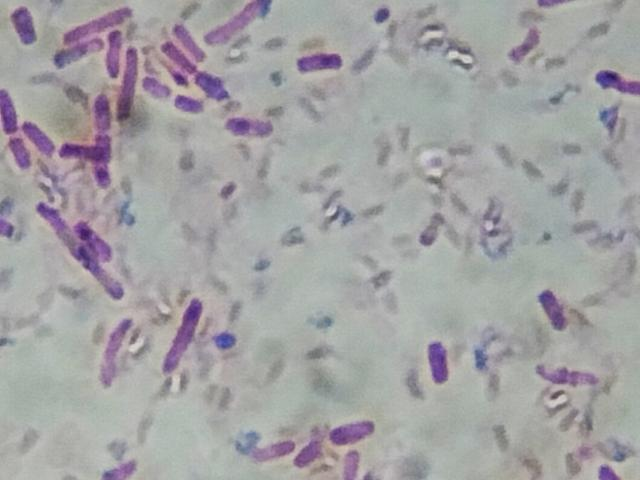E. coli: (165, 296, 206, 376), (210, 0, 274, 49), (531, 357, 607, 392), (79, 249, 127, 299), (61, 6, 140, 35), (38, 202, 80, 249), (12, 5, 49, 58), (595, 62, 640, 104), (429, 333, 459, 395), (76, 215, 120, 256), (99, 315, 123, 390), (225, 113, 282, 144), (295, 49, 351, 78), (52, 39, 110, 66), (328, 417, 376, 448), (539, 286, 572, 330), (28, 119, 63, 159), (202, 70, 238, 107), (120, 49, 138, 123), (172, 14, 208, 50), (96, 132, 119, 187), (289, 439, 327, 470), (256, 437, 297, 465), (93, 456, 137, 479), (165, 45, 198, 72), (2, 212, 23, 249), (0, 84, 18, 127), (93, 89, 112, 128), (339, 450, 363, 480), (109, 33, 124, 79), (8, 136, 27, 168), (55, 146, 94, 161), (596, 457, 620, 480), (171, 95, 200, 114), (145, 76, 175, 94)
